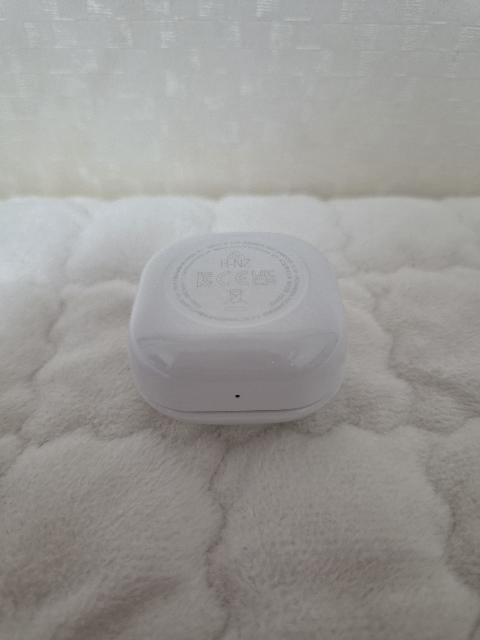earphone_case: (127, 231, 348, 426)
